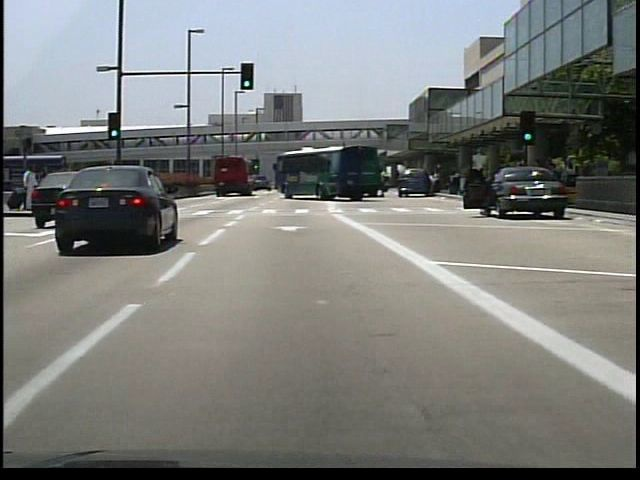person: (20, 163, 41, 217), (424, 168, 436, 196)
